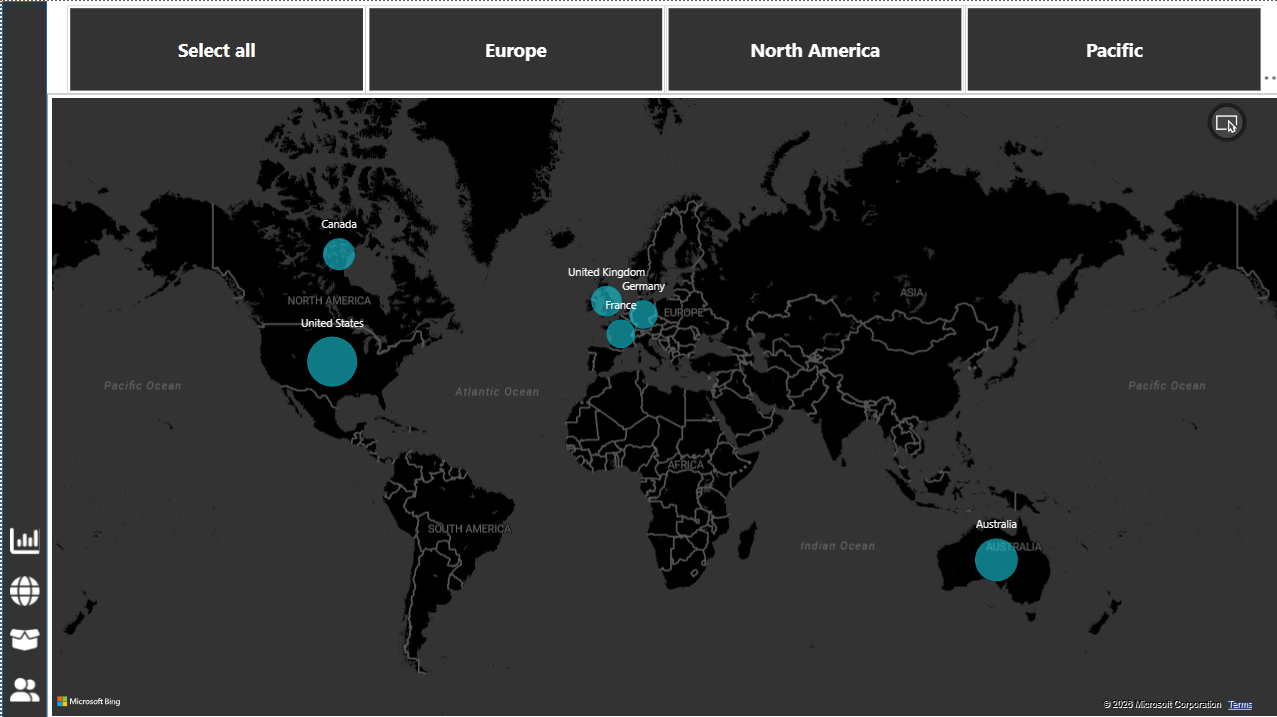

The dashboard page shown, as its layout file describes it:
{"tool":"powerbi","page":{"name":"Map","canvas":[1280,720],"ordinal":1},"visuals":[{"type":"shape","box":[0,0,45,720],"z":0},{"type":"actionButton","box":[0,521.2,45,37.5],"z":0,"group":"g1"},{"type":"map","fields":{"Category":["Territory Lookup.Country"],"Size":["Measure Table.Total Orders"]},"box":[45,92.5,1235,627.5],"z":1000},{"type":"actionButton","box":[0,620.4,45,37.5],"z":1000,"group":"g1"},{"type":"slicer","fields":{"Values":["Territory Lookup.Continent"]},"box":[45,0,1235,98.8],"z":2000},{"type":"actionButton","box":[0,669.9,45,37.5],"z":2000,"group":"g1"},{"type":"group","id":"g1","title":"Navigation Buttons","box":[0,521.2,45,186.2],"z":3000},{"type":"actionButton","box":[0,570.8,45,37.5],"z":3000,"group":"g1"}]}

Visuals, with their boxes on the page's 1280x720 design canvas (x1, y1, x2, y2). These are canvas units, not pixel positions in the 1277x717 screenshot, which may show the page scaled, cropped or inside an application window:
shape: [0,0,45,720]
actionButton: [0,521,45,559]
map - Territory Lookup.Country x Measure Table.Total Orders: [45,92,1280,720]
actionButton: [0,620,45,658]
slicer - Territory Lookup.Continent: [45,0,1280,99]
actionButton: [0,670,45,707]
"Navigation Buttons" group: [0,521,45,707]
actionButton: [0,571,45,608]
